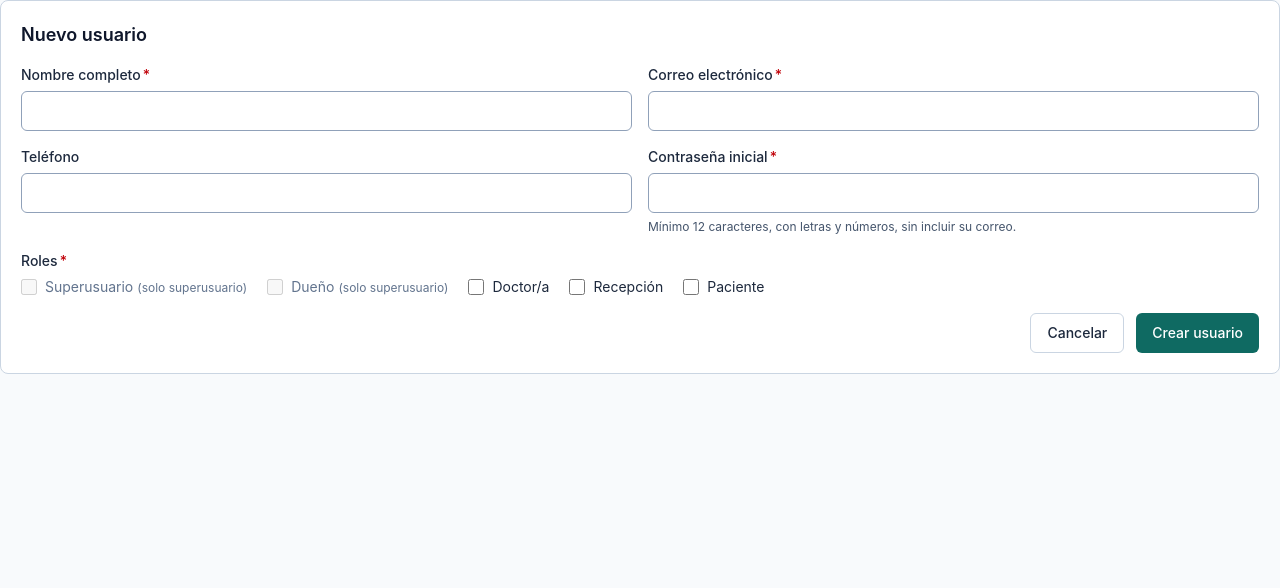
UserCreateForm › muestra el bloque de doctor solo cuando se marca el rol Doctor/a
Check: the text "Perfil de doctor" is not shown
Click the checkbox labelled "Doctor/a". click: (476, 287)
box: [468,279,484,295]
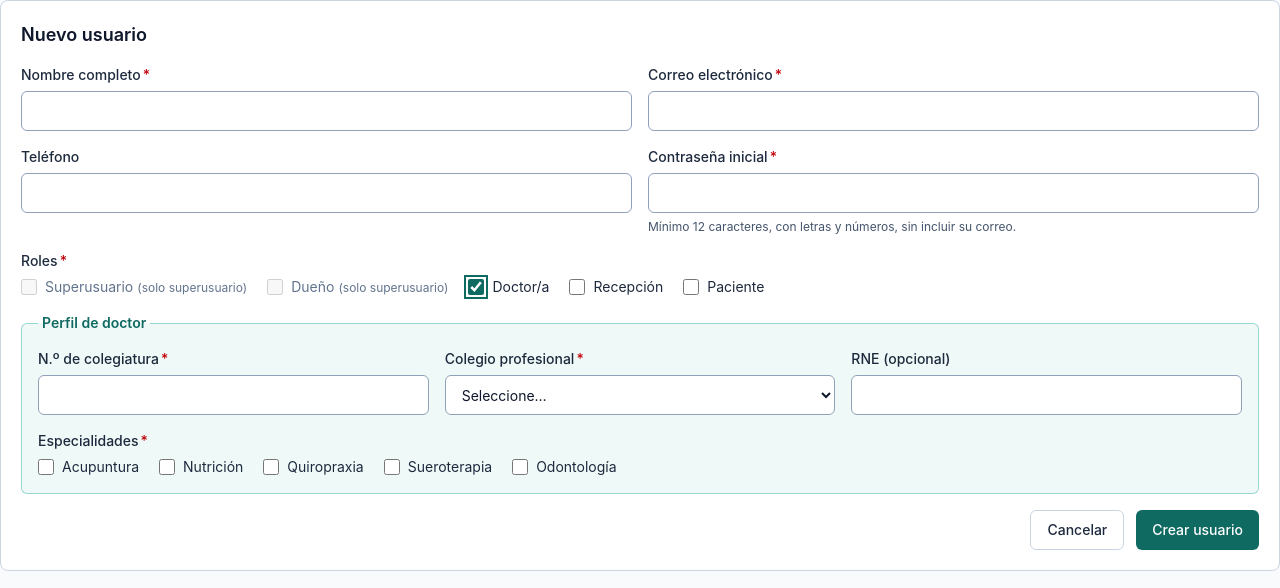
Check: the text "Perfil de doctor" is shown, box [38,313,150,333]
Check: the field labelled "N.º de colegiatura*" is shown, box [38,375,429,415]
Check: the checkbox labelled "Acupuntura" is shown, box [38,459,54,475]
Click the checkbox labelled "Doctor/a". click: (476, 287)
box: [468,279,484,295]
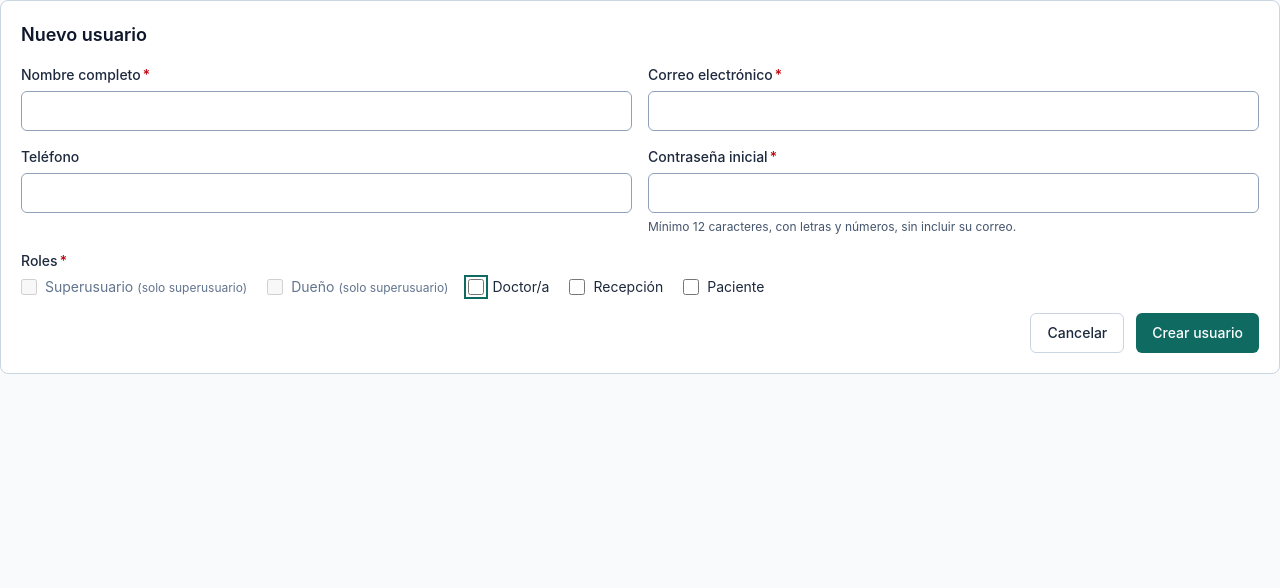
Check: the text "Perfil de doctor" is gone
